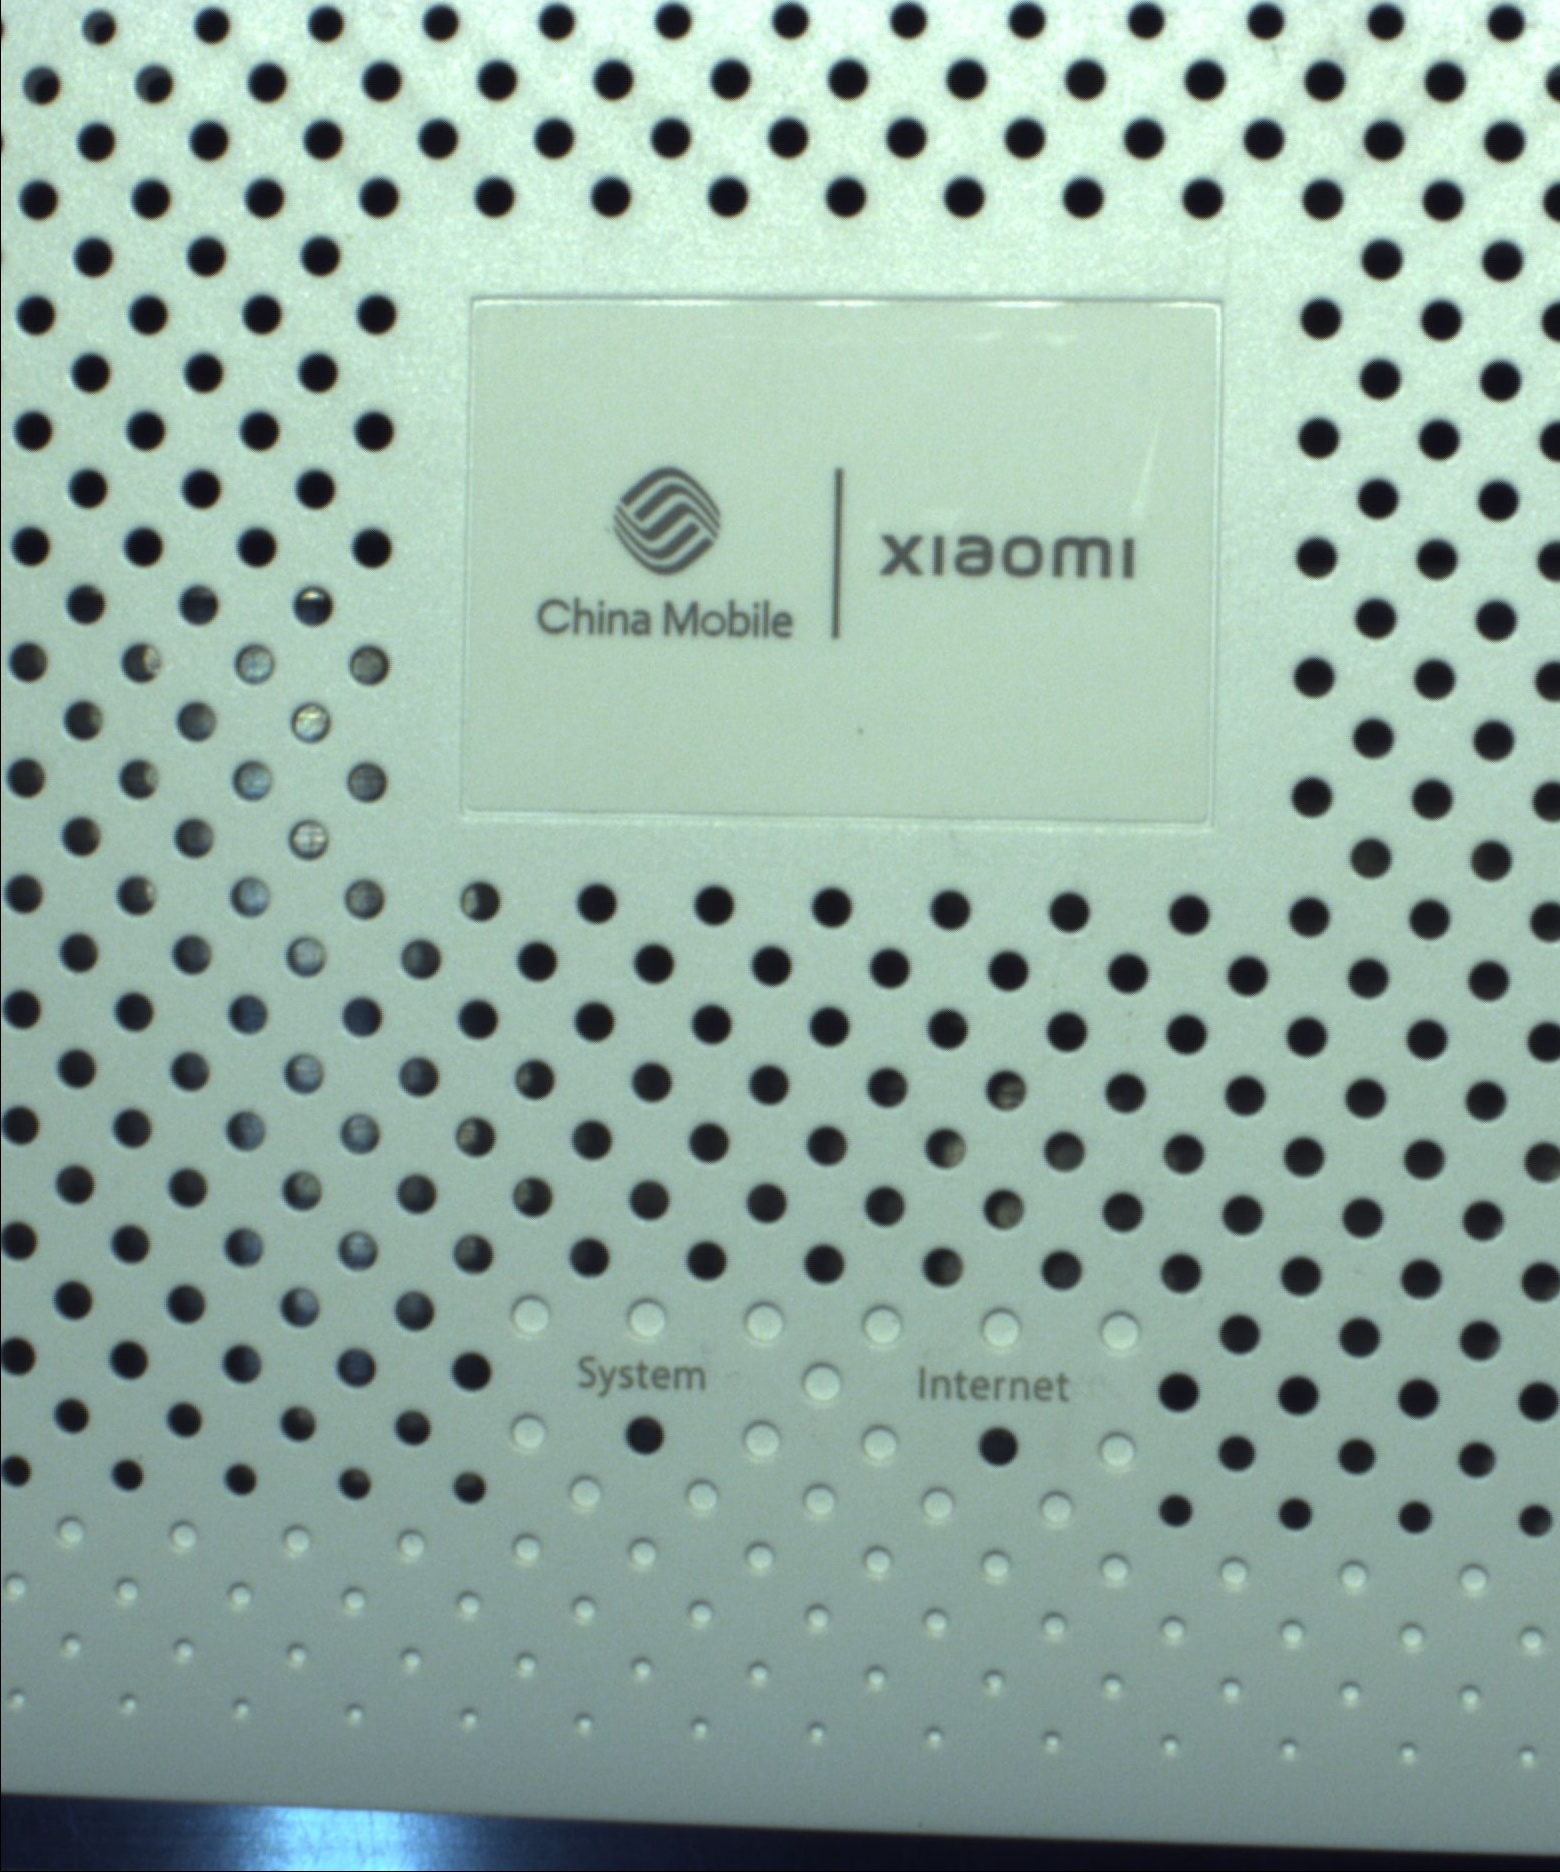MAD_ChinaMobile: (526, 463, 1145, 672)
